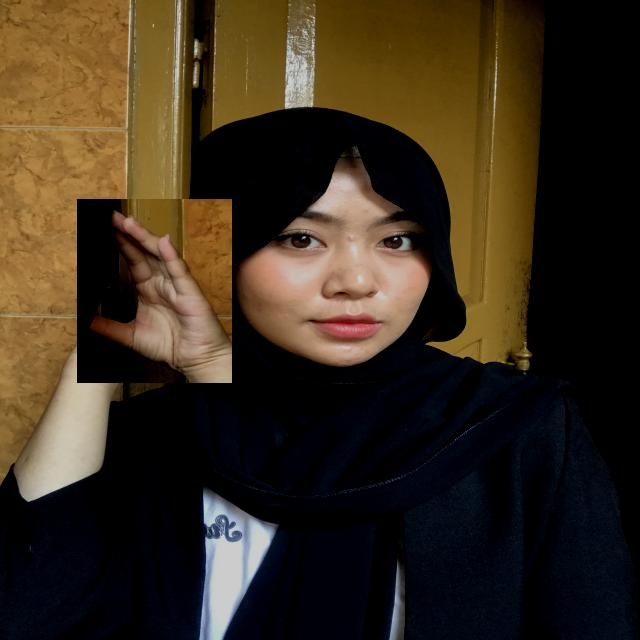mendengar: (77, 199, 232, 383)
